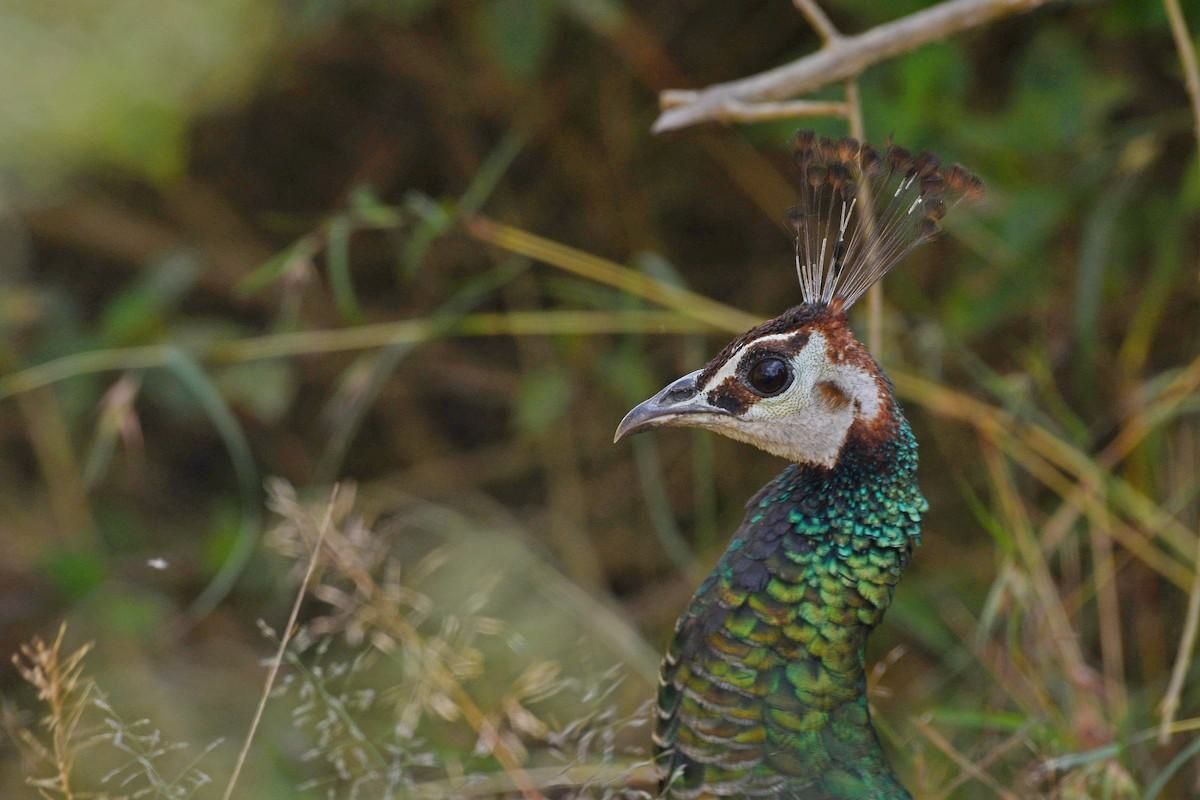peacock: (550, 171, 1047, 800)
